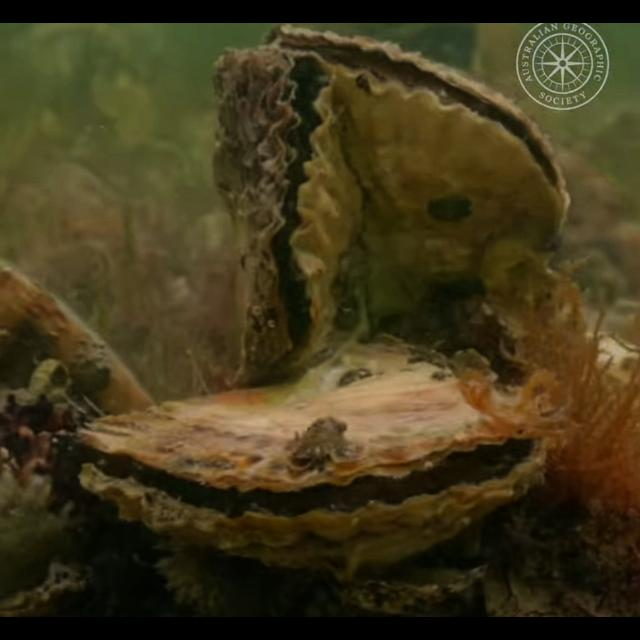Oyster-Closed: (0, 262, 156, 430)
Oyster-Open: (76, 332, 550, 582), (266, 24, 572, 352), (212, 44, 366, 390)
